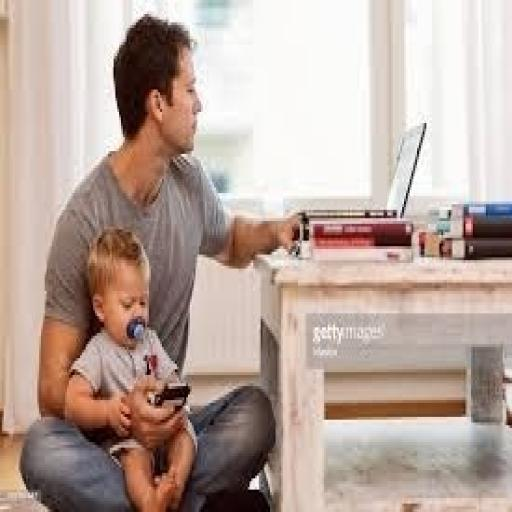using_laptop: (281, 118, 428, 221)
